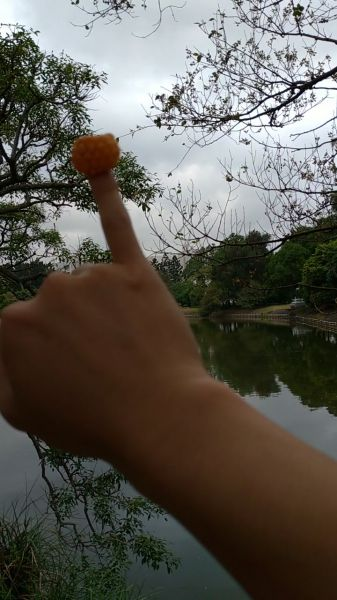eggs: (69, 133, 119, 173)
